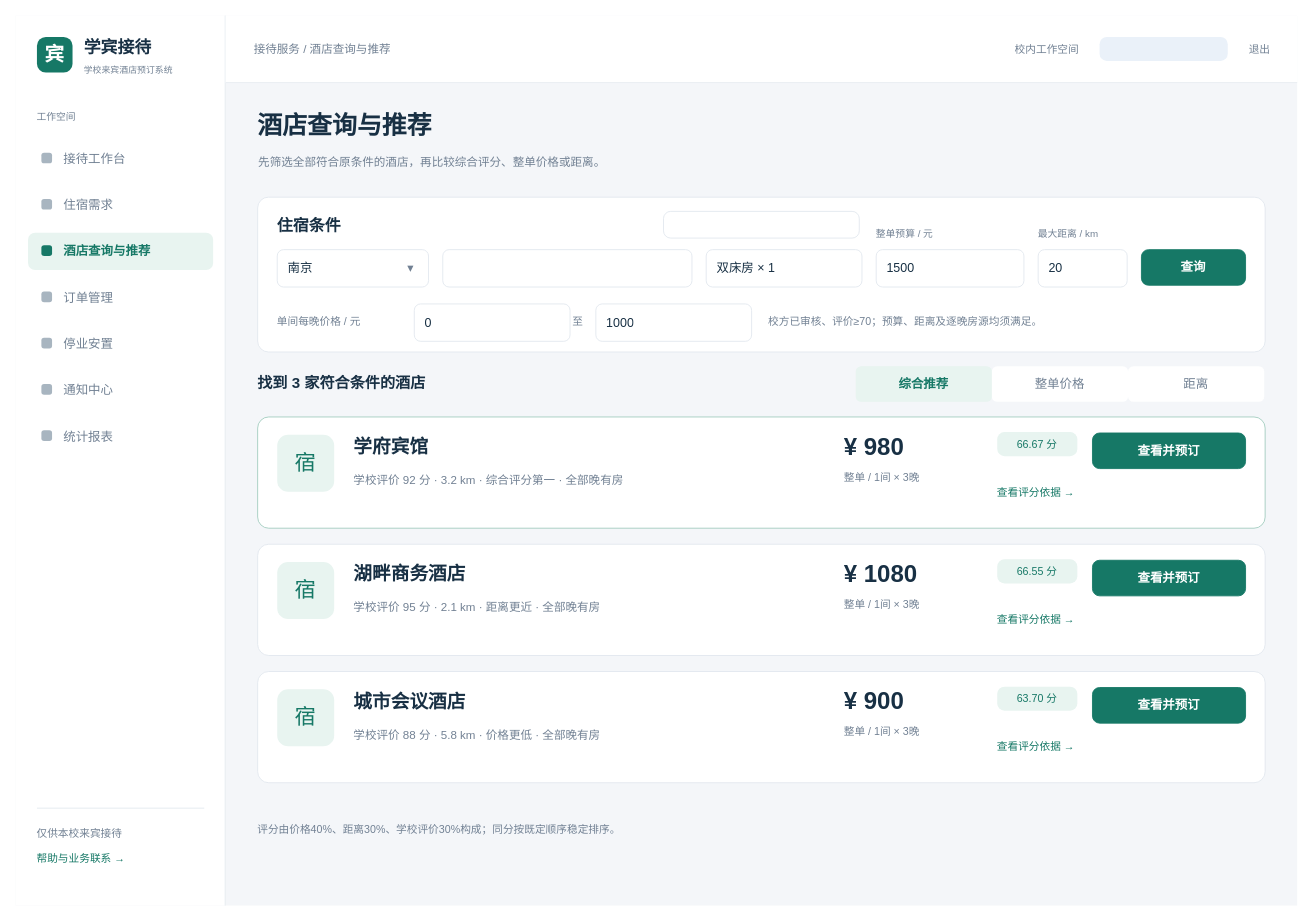
Some shapes in this 1312 by 920 pixel diagram are drawn without their labels. The centre of each missing label's shape, as x and y in pixels:
"2026-11-20 至 11-23" goes at point (567, 268).
"修改日期、人数与房型" goes at point (761, 224).
"学校接待人员" goes at point (1163, 48).
